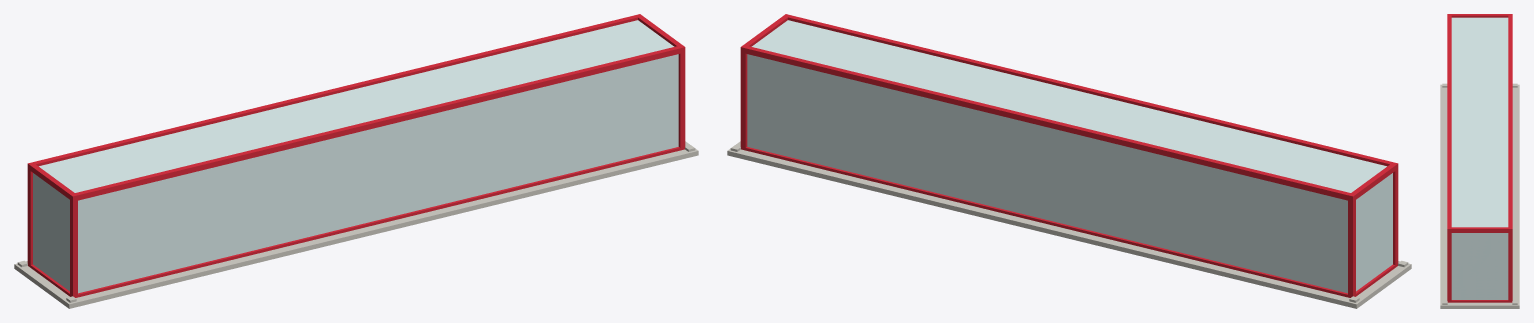
File: shalanz-ekskavator-set.glb
3 renders of one model, left to right at view 1: azimuth 30°, elevation 25°; view 2: azimuth 150°, elevation 25°; view 3: azimuth 270°, elevation 25°, orthographic. The views are drawn at different scales.
Size of the model in its own units: 0.86 by 0.1395 by 0.13.
